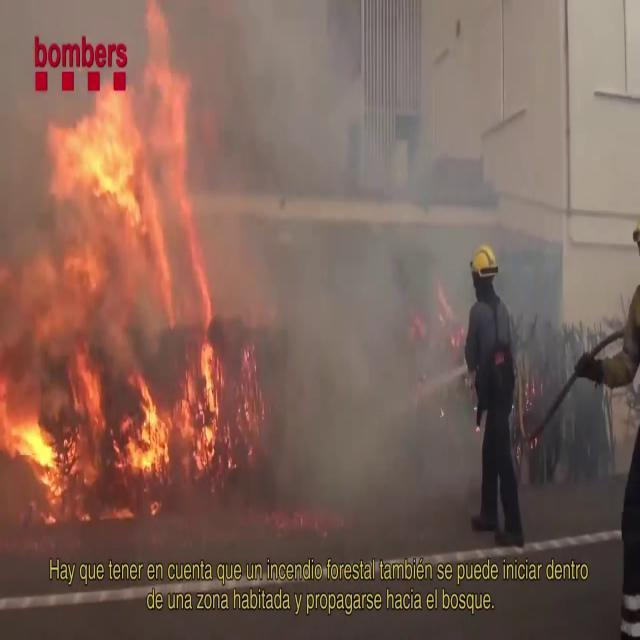Fire: (0, 335, 230, 525), (44, 44, 204, 290)
Smoke: (222, 4, 476, 538)
